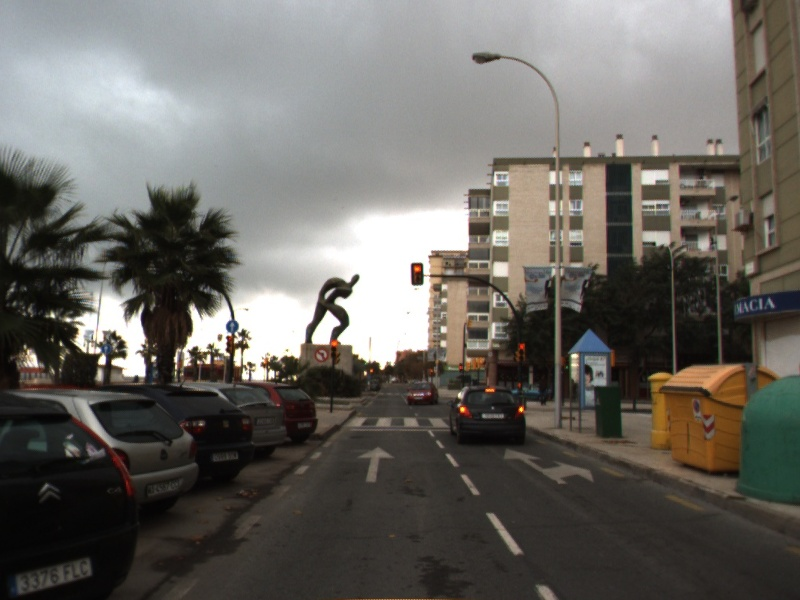STRAIGHT: (356, 445, 397, 484)
STRAIGHT_RIGHT: (502, 447, 596, 486)
